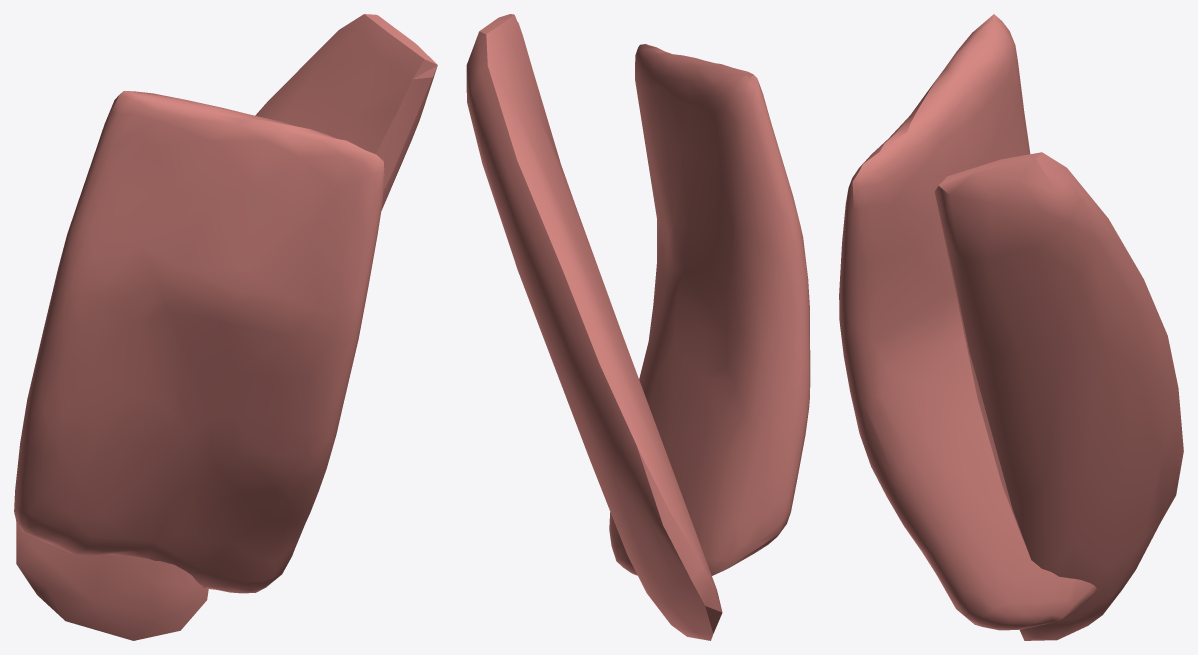
Rendered from fma81592_mm2382m.glb.
3 renders of one model, left to right at view 1: azimuth 30°, elevation 25°; view 2: azimuth 150°, elevation 25°; view 3: azimuth 270°, elevation 25°, orthographic. The views are drawn at different scales.
Visible parts, largest first — view 1: FMA81592_MM2382M; view 2: FMA81592_MM2382M; view 3: FMA81592_MM2382M.
Boxes of the visible parts, box(x1,y1,x2,y2) form: FMA81592_MM2382M: box(14, 14, 437, 640); FMA81592_MM2382M: box(466, 14, 810, 640); FMA81592_MM2382M: box(839, 14, 1183, 640).
Bounding box in the file's own units: 0.0202 × 0.0306 × 0.0158.
